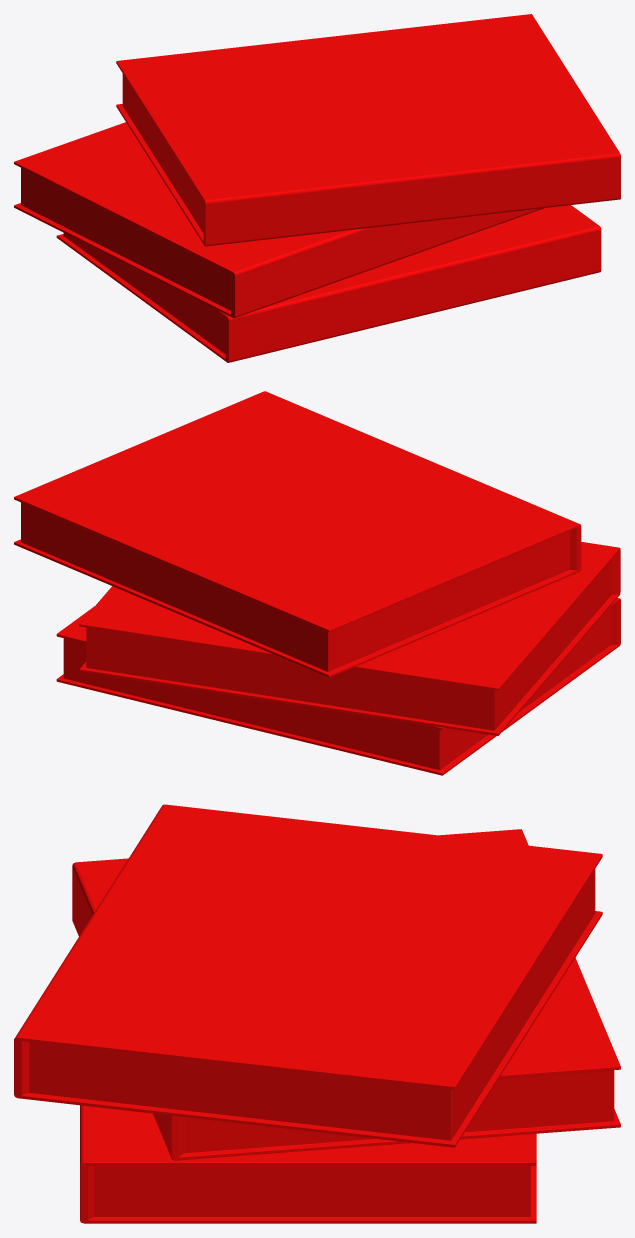
Rendered from umgebung_buch_stapel_low.FBX.
The picture shows the model from 3 angles, top to bottom: view 1: azimuth 30°, elevation 25°; view 2: azimuth 150°, elevation 25°; view 3: azimuth 270°, elevation 25°; orthographic projection. The views are drawn at different scales.
Parts seen in each view (by area): view 1: Buch Stapel; view 2: Buch Stapel; view 3: Buch Stapel.
Part boxes in pixels (x1,y1,x2,y2): Buch Stapel: (14,14,620,362); Buch Stapel: (14,391,620,775); Buch Stapel: (14,804,620,1223).
Bounding box in the file's own units: 72.5 × 58.3 × 19.43.
